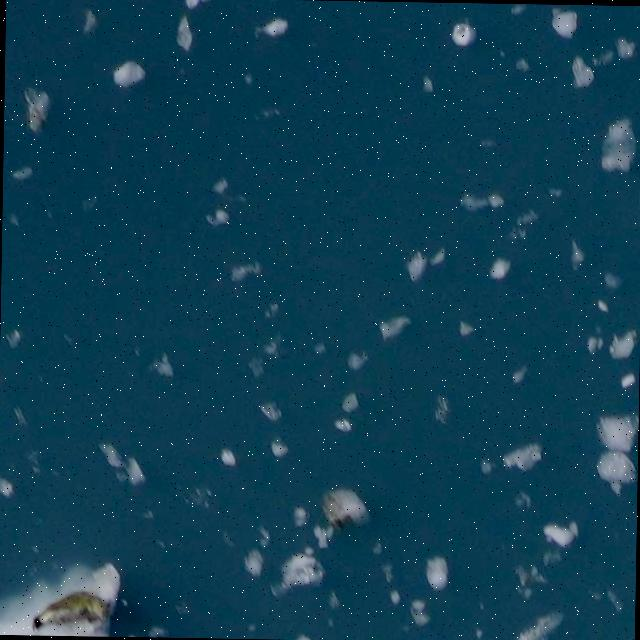seal: (29, 588, 110, 633)
